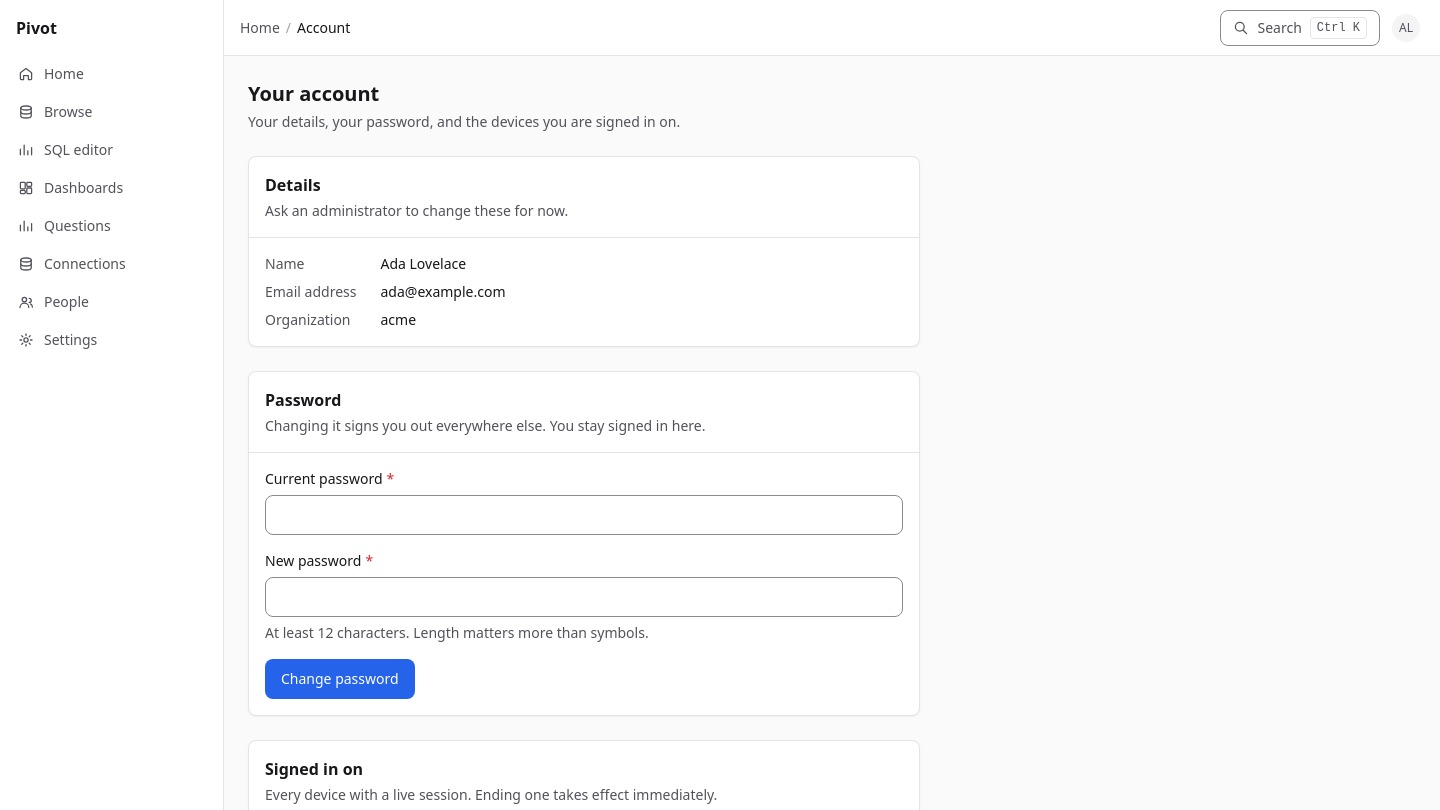
Test case: changing your password › says what it did, and clears the form
Type "current-password-here" into the password field labelled "Current password*" at (584, 515), box [265,495,903,535]
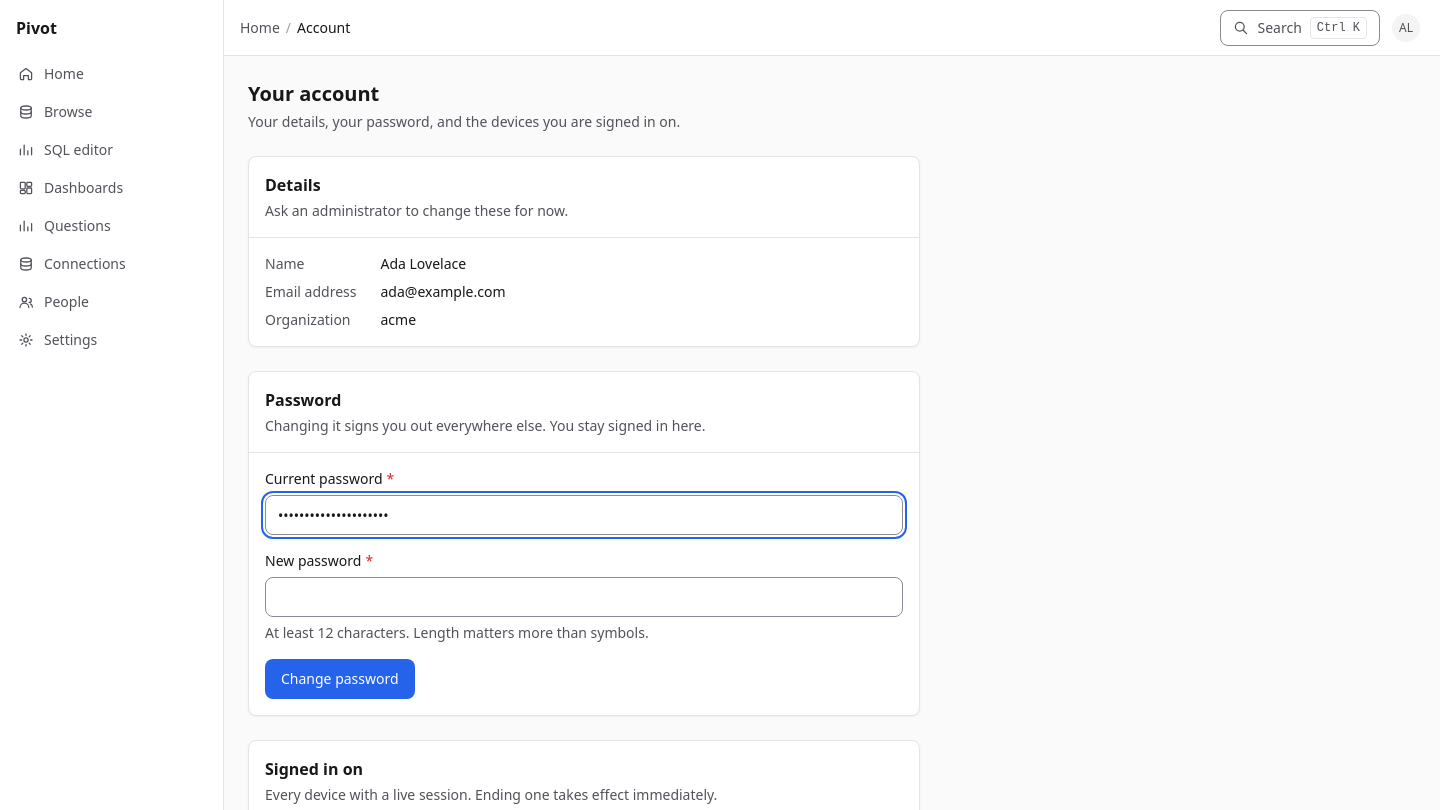
Type "a-brand-new-password" into the password field labelled "New password*" at (584, 597), box [265,577,903,617]
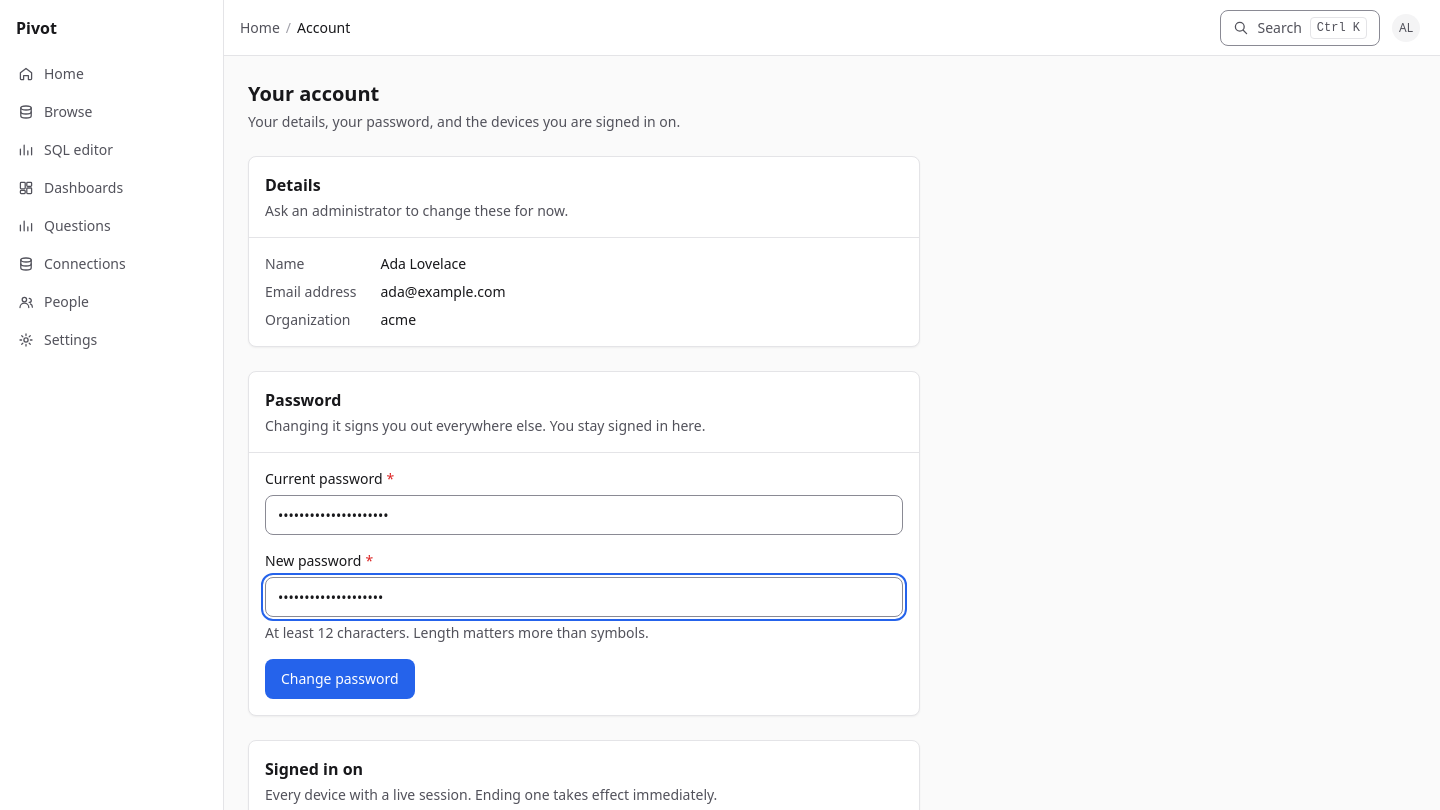
Click the button "Change password" at (340, 679), box [265,659,415,699]
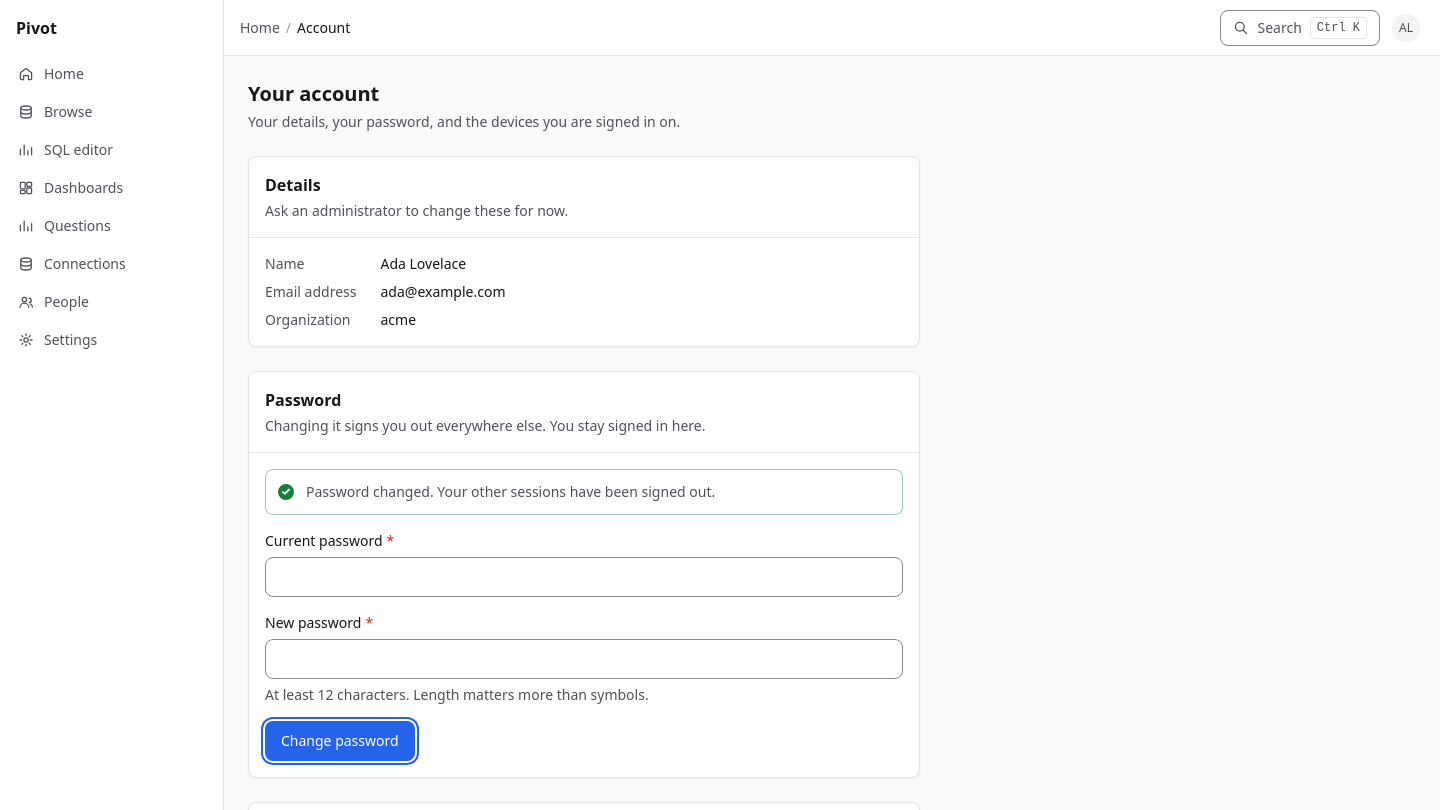
Check: the text "Password changed. Your other sessions have been signed out." is shown, box [306,482,715,501]
Check: the password field labelled "New password*" is empty, box [265,639,903,679]
